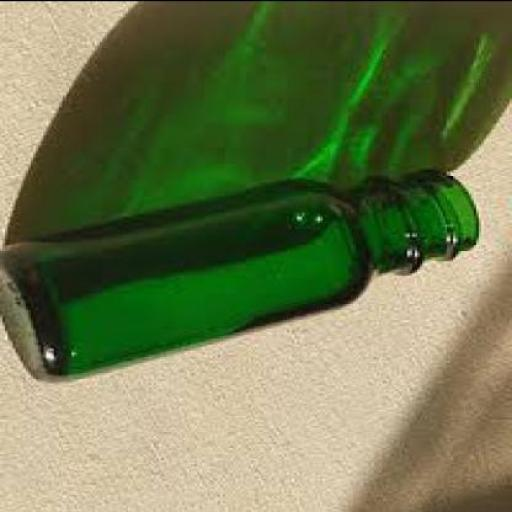glass: (2, 166, 484, 380)
